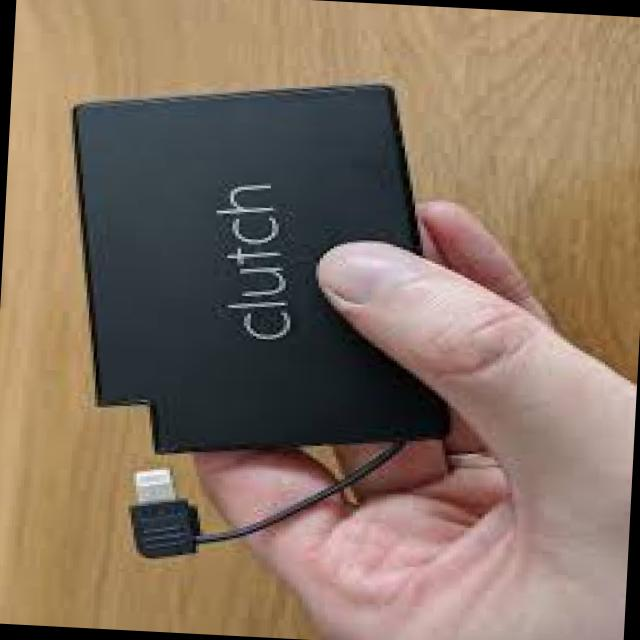portable-charger: (52, 63, 466, 466)
